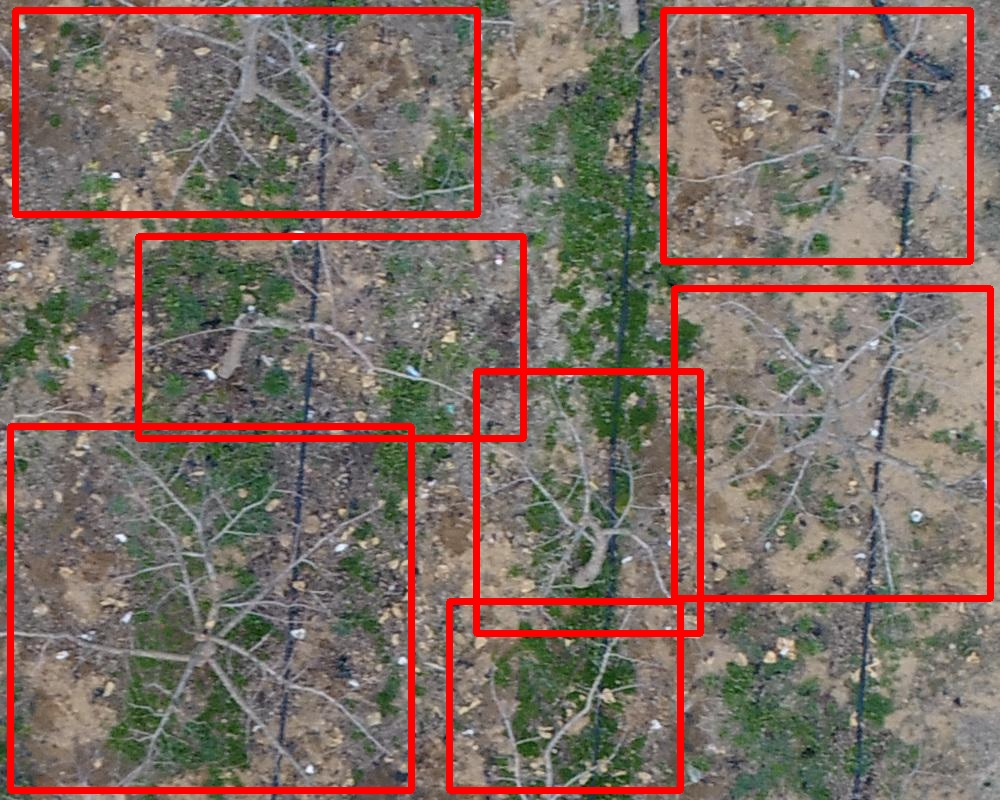apple: (10, 426, 411, 790), (674, 288, 990, 598), (15, 10, 477, 214), (138, 236, 523, 438), (663, 10, 970, 261), (476, 371, 700, 633), (449, 601, 680, 790)
